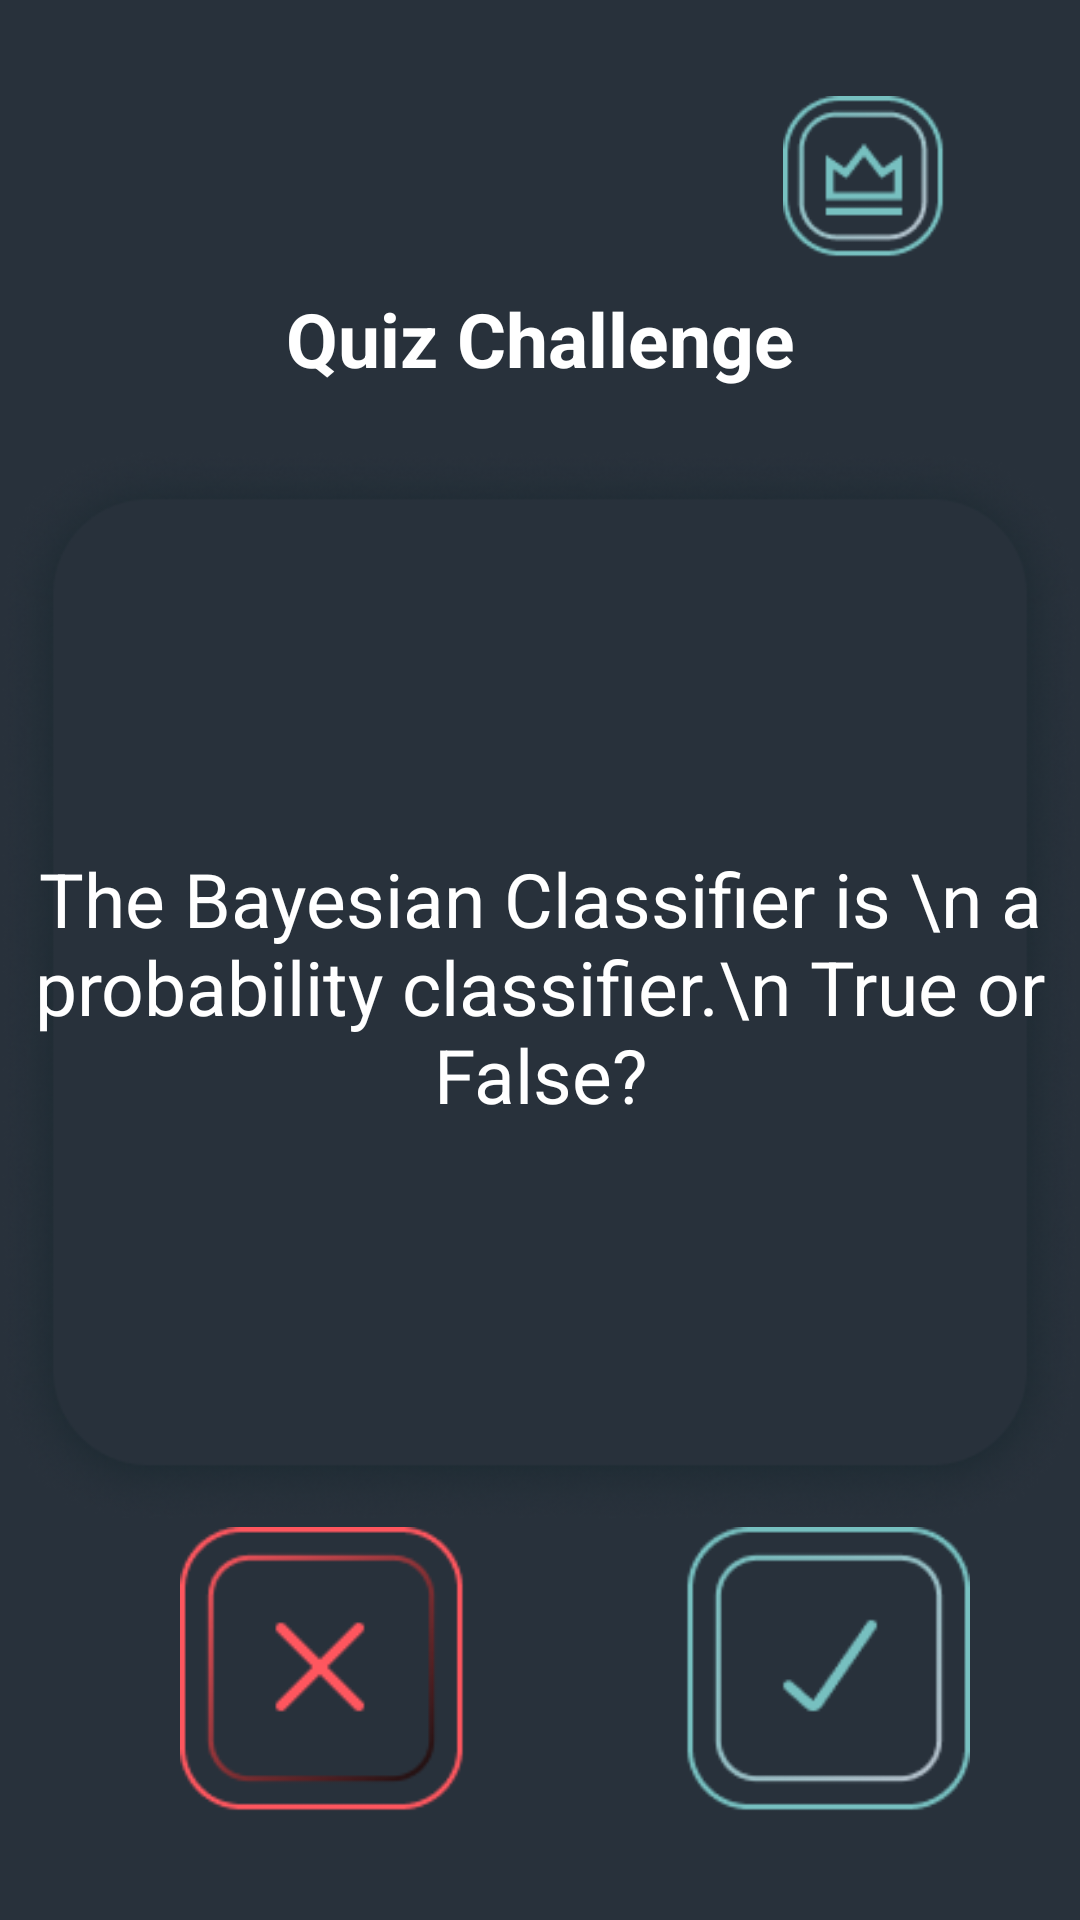

Screen size 1080px×1920px. Icon name, then its center in pixels as (x=x, y=y):
falseee: (x=321, y=1668)
scoree: (x=863, y=176)
truee: (x=828, y=1668)
